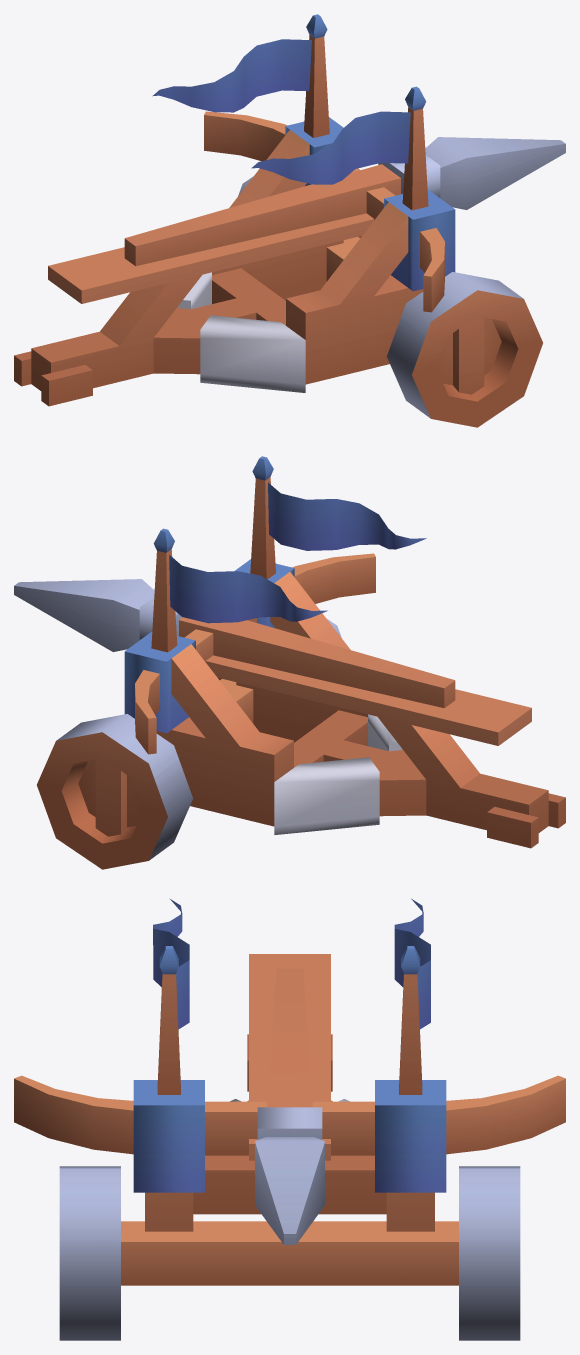
The model's file is ballista.glb.
The picture shows the model from 3 angles, top to bottom: view 1: azimuth 30°, elevation 25°; view 2: azimuth 150°, elevation 25°; view 3: azimuth 270°, elevation 25°; orthographic projection. The views are drawn at different scales.
Parts seen in each view (by area): view 1: siege-ballista; view 2: siege-ballista; view 3: siege-ballista.
Part boxes in pixels (box(x1,y1,x2,y2)): siege-ballista: box(14, 14, 565, 427); siege-ballista: box(14, 456, 565, 869); siege-ballista: box(14, 898, 565, 1340).
Size of the model in its own units: 1.63 by 0.9102 by 1.2.
1 material, 1 textured.
